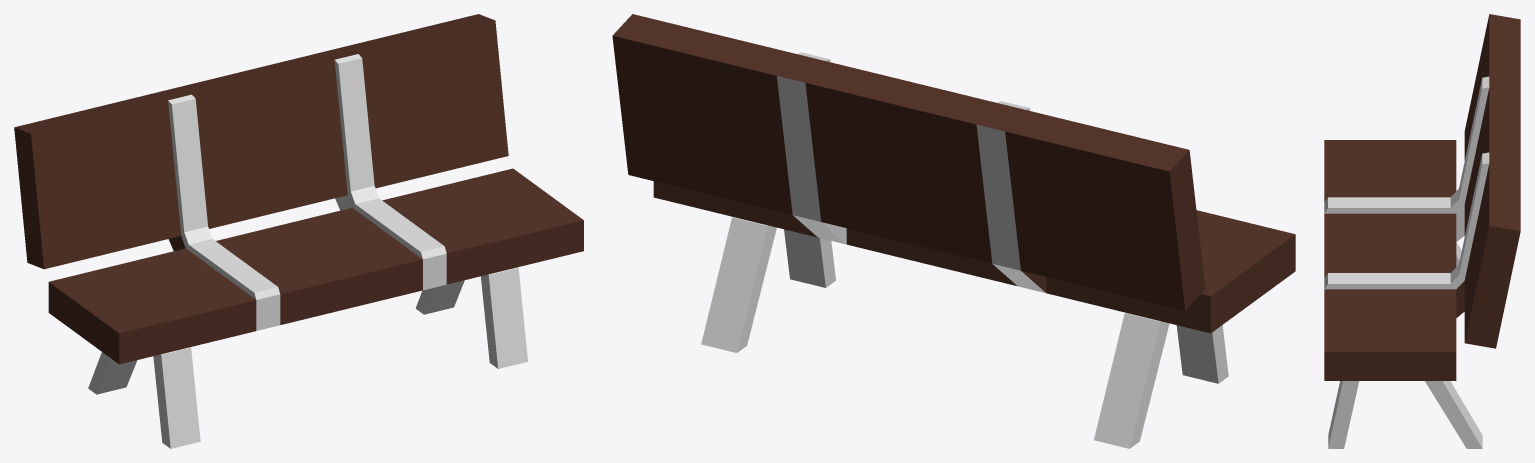
File: Bench.fbx
The picture shows the model from 3 angles, left to right: view 1: azimuth 30°, elevation 25°; view 2: azimuth 150°, elevation 25°; view 3: azimuth 270°, elevation 25°; orthographic projection. The views are drawn at different scales.
Parts seen in each view (by area): view 1: Cube; view 2: Cube; view 3: Cube.
Part boxes in pixels (x1=…): Cube: x1=14, y1=14, x2=583, y2=448; Cube: x1=612, y1=14, x2=1295, y2=448; Cube: x1=1324, y1=14, x2=1520, y2=448.
Bounding box in the file's own units: 759 × 414 × 298.
